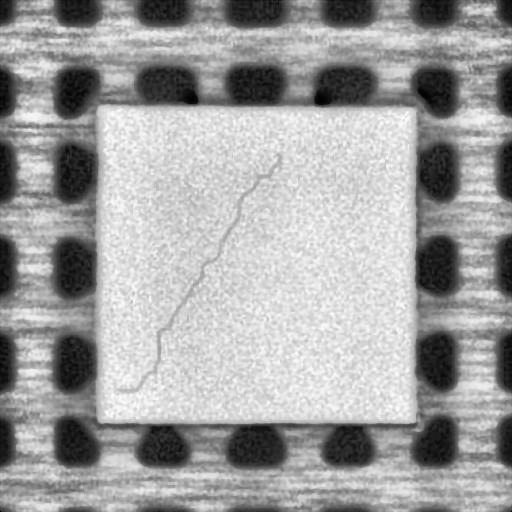DIE_CRACK: (118, 152, 282, 394)
